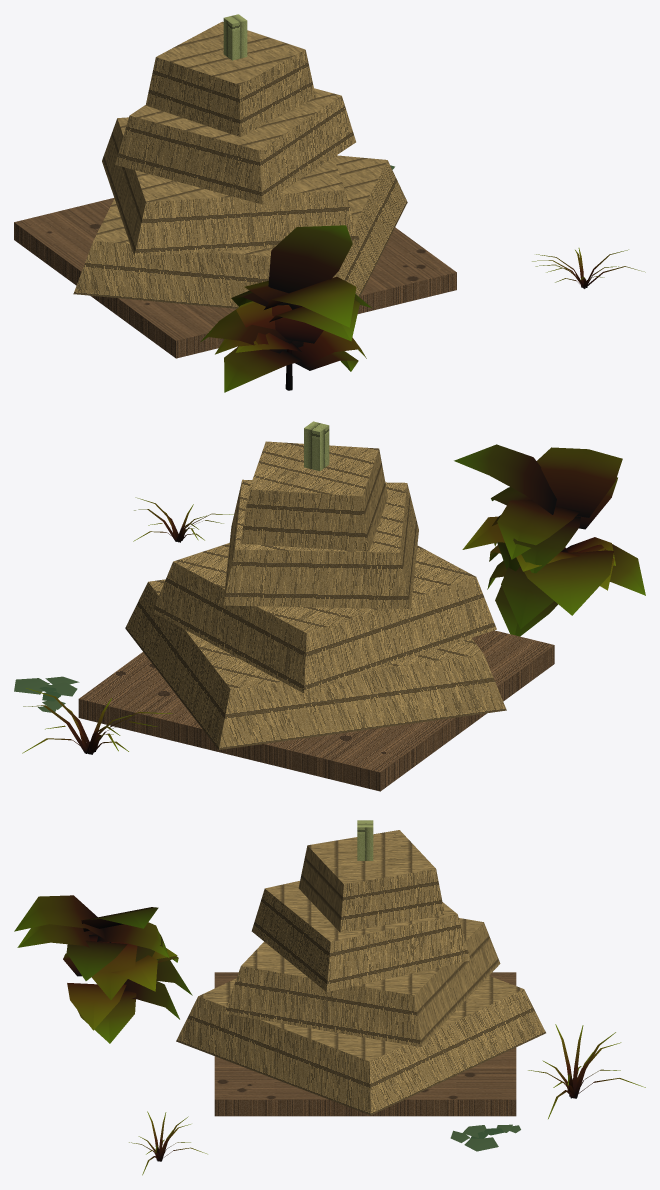
Rendered from haystack_01.glb.
3 renders of one model, top to bottom at view 1: azimuth 30°, elevation 25°; view 2: azimuth 150°, elevation 25°; view 3: azimuth 270°, elevation 25°, orthographic. The views are drawn at different scales.
Parts seen in each view (by area): view 1: haystack_01, haystack_01_veg_00_bush_b, haystack_01_veg_01_grass_tuft_c; view 2: haystack_01, haystack_01_veg_00_bush_b, haystack_01_veg_02_grass_tuft_c, haystack_01_veg_03_moss_a, haystack_01_veg_01_grass_tuft_c; view 3: haystack_01, haystack_01_veg_00_bush_b, haystack_01_veg_02_grass_tuft_c, haystack_01_veg_03_moss_a, haystack_01_veg_01_grass_tuft_c.
Part boxes in pixels (<box>): haystack_01: <box>14,14,456,358</box>; haystack_01_veg_00_bush_b: <box>200,225,371,392</box>; haystack_01_veg_01_grass_tuft_c: <box>532,248,645,288</box>; haystack_01: <box>78,421,554,791</box>; haystack_01_veg_00_bush_b: <box>454,444,645,636</box>; haystack_01_veg_02_grass_tuft_c: <box>22,688,172,754</box>; haystack_01_veg_03_moss_a: <box>14,676,79,712</box>; haystack_01_veg_01_grass_tuft_c: <box>133,497,233,542</box>; haystack_01: <box>176,820,545,1116</box>; haystack_01_veg_00_bush_b: <box>14,895,192,1043</box>; haystack_01_veg_02_grass_tuft_c: <box>528,1024,645,1118</box>; haystack_01_veg_03_moss_a: <box>450,1124,520,1151</box>; haystack_01_veg_01_grass_tuft_c: <box>129,1111,207,1175</box>.
Size of the model in its own units: 4.89 by 2.56 by 6.25.
6 materials, 6 textured.
